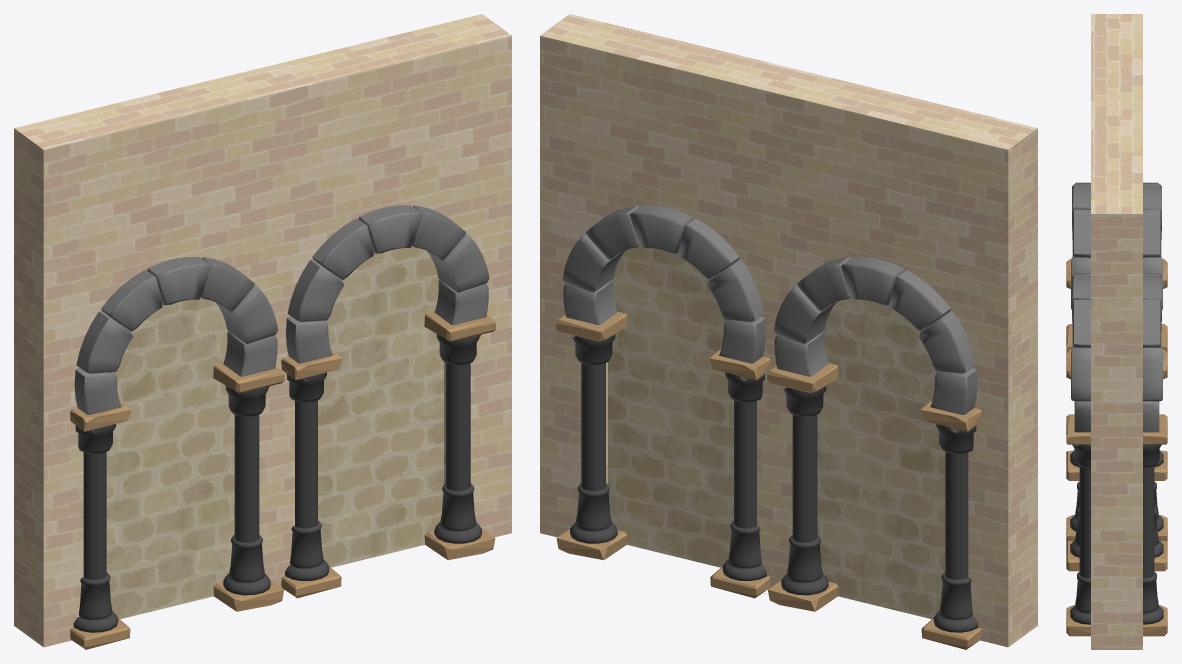
The model's file is SM_wall_arch_04.fbx.
The picture shows the model from 3 angles, left to right: view 1: azimuth 30°, elevation 25°; view 2: azimuth 150°, elevation 25°; view 3: azimuth 270°, elevation 25°; orthographic projection. The views are drawn at different scales.
Visible parts, largest first — view 1: Plane183; view 2: Plane183; view 3: Plane183.
Part boxes in pixels (x1,y1,x2,y2): Plane183: (14,14,511,649); Plane183: (540,14,1037,649); Plane183: (1066,14,1167,649).
Bounding box in the file's own units: 169 × 171 × 36.05.
